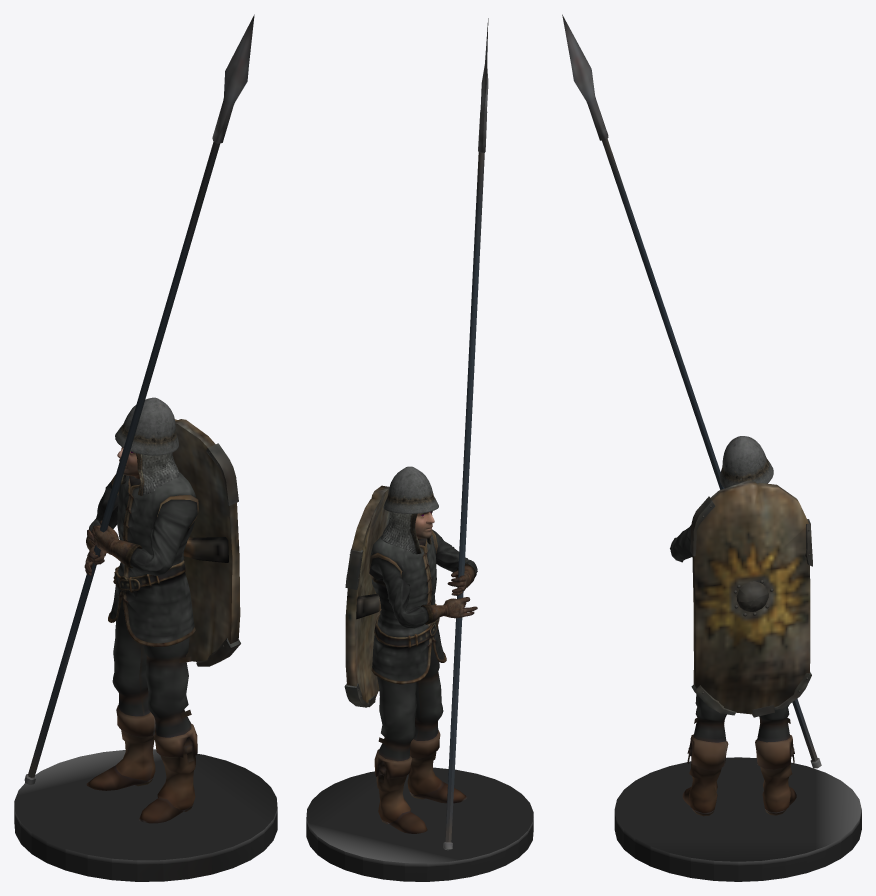
3 renders of one model, left to right at view 1: azimuth 30°, elevation 25°; view 2: azimuth 150°, elevation 25°; view 3: azimuth 270°, elevation 25°, orthographic. The views are drawn at different scales.
Visible parts, largest first — view 1: male_01_gatekeeper_light_body.smd; view 2: male_01_gatekeeper_light_body.smd; view 3: male_01_gatekeeper_light_body.smd.
Part boxes in pixels (bbox=[...]): male_01_gatekeeper_light_body.smd: bbox=[14, 14, 277, 881]; male_01_gatekeeper_light_body.smd: bbox=[306, 18, 533, 881]; male_01_gatekeeper_light_body.smd: bbox=[562, 14, 861, 881].
Bounding box in the file's own units: 1 × 3.67 × 1.21.
Materials: 1 (1 with a texture image).
